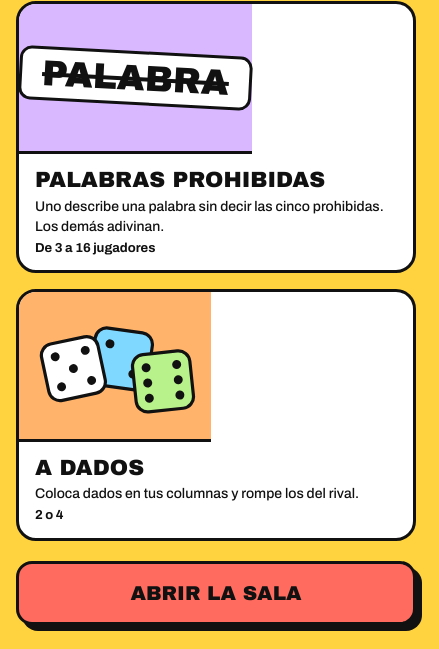
Test case: Room › recién creada, el anfitrión elige juego y abre la sala
(page scrolled)
Click the button "Abrir la sala" at (216, 593), box [16,561,416,625]
(page scrolled)
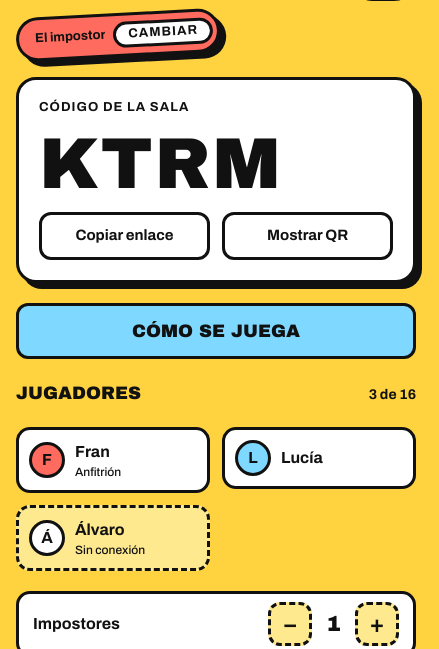
Expected: the text "KTRM" is shown, [39,125,282,203]
Result: the button "Abrir la sala" is gone
